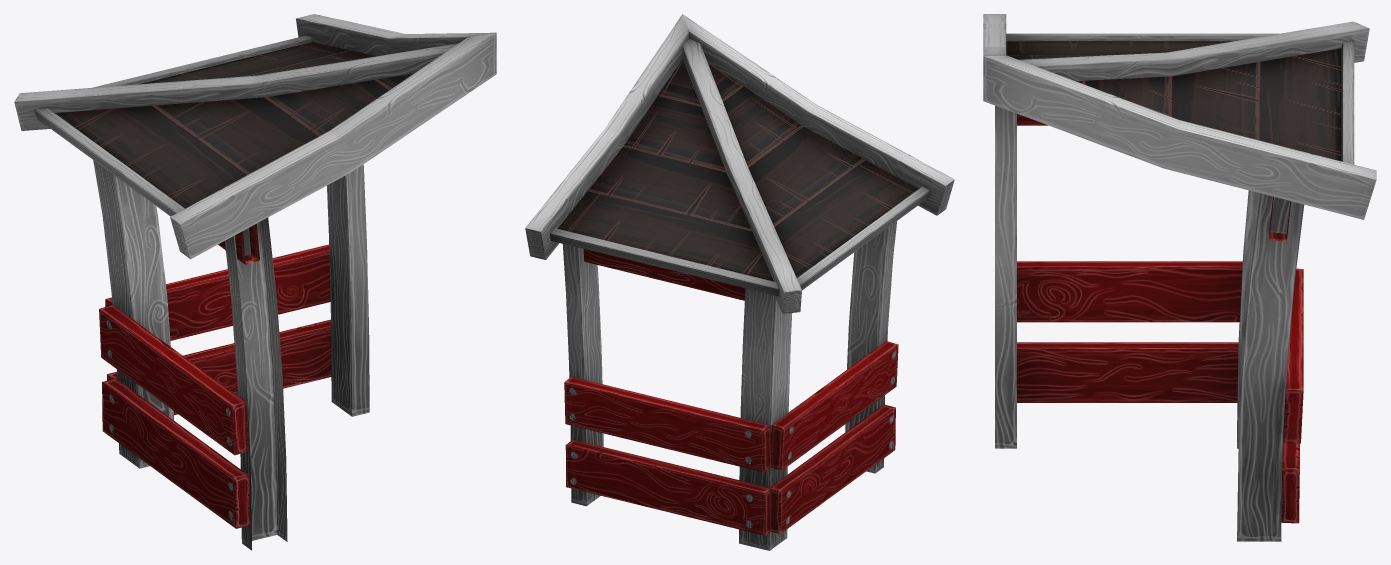
Rendered from Corner_IN.fbx.
3 views of the same model, side by side, from view 1: azimuth 30°, elevation 25°; view 2: azimuth 150°, elevation 25°; view 3: azimuth 270°, elevation 25° (orthographic). The views are drawn at different scales.
Parts seen in each view (by area): view 1: Corner_In; view 2: Corner_In; view 3: Corner_In.
Part boxes in pixels (box(x1,y1,x2,y2)): Corner_In: box(14, 14, 496, 550); Corner_In: box(525, 14, 954, 550); Corner_In: box(983, 14, 1376, 541).
Size of the model in its own units: 134 by 188 by 134.
